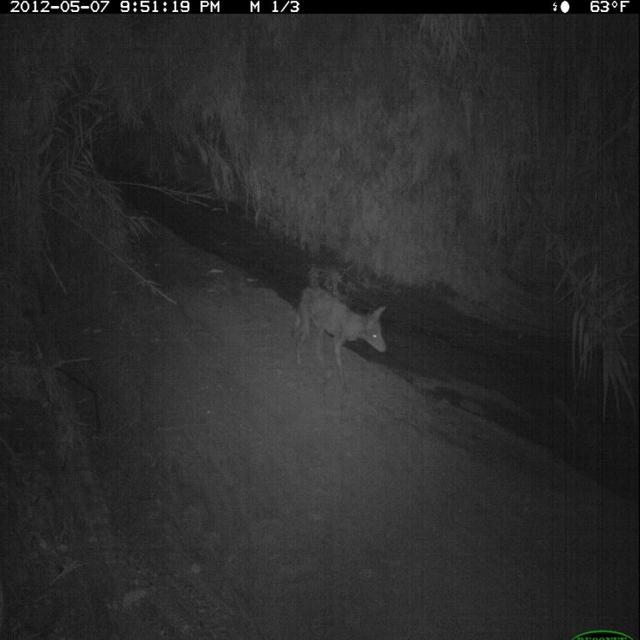coyote: (288, 280, 391, 401)
